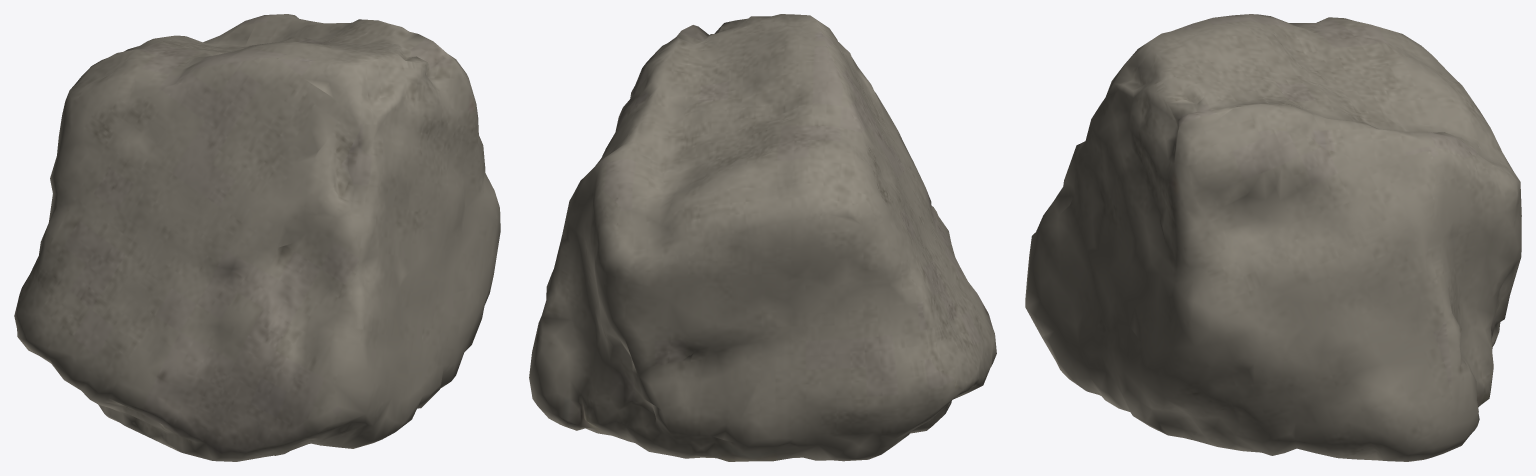
Rendered from moon_rock_02-72b3b793.glb.
The picture shows the model from 3 angles, left to right: view 1: azimuth 30°, elevation 25°; view 2: azimuth 150°, elevation 25°; view 3: azimuth 270°, elevation 25°; orthographic projection. The views are drawn at different scales.
Visible parts, largest first — view 1: moon_rock_02_LOD0; view 2: moon_rock_02_LOD0; view 3: moon_rock_02_LOD0.
Boxes of the visible parts, left/top/right/bottom form: moon_rock_02_LOD0: left=14, top=14, right=500, bottom=461; moon_rock_02_LOD0: left=529, top=14, right=996, bottom=461; moon_rock_02_LOD0: left=1025, top=14, right=1521, bottom=461.
Bounding box in the file's own units: 0.2465 × 0.2019 × 0.2513.
1 material, 1 textured.
